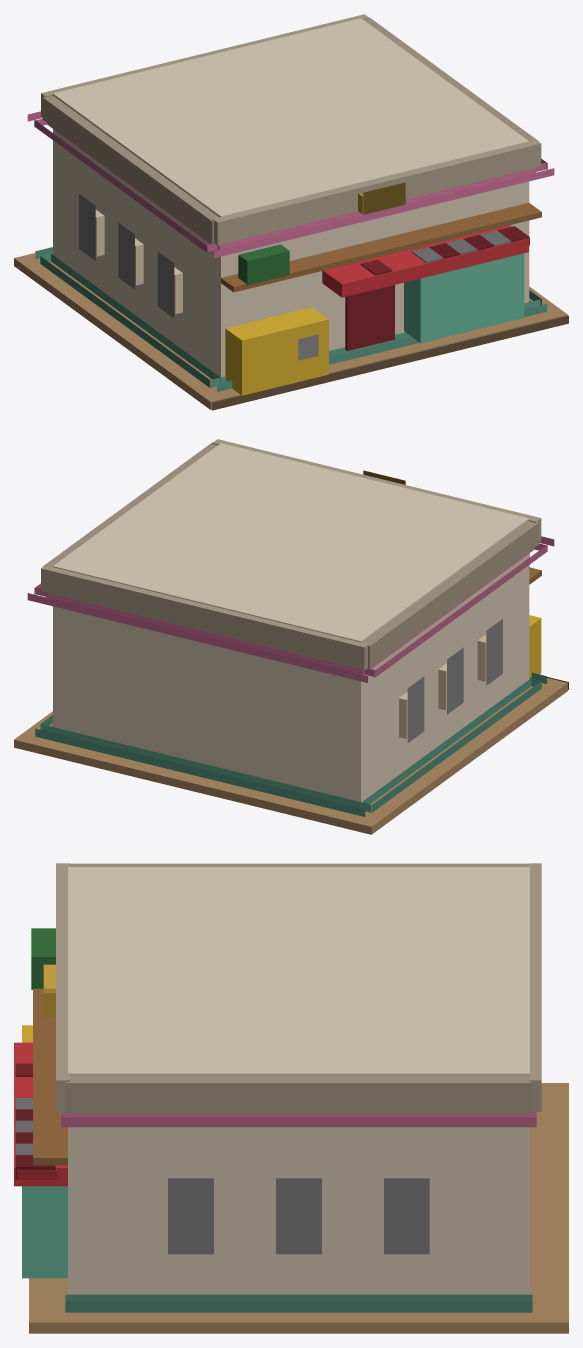
File: RoyalRatTrainSil.fbx
The picture shows the model from 3 angles, top to bottom: view 1: azimuth 30°, elevation 25°; view 2: azimuth 150°, elevation 25°; view 3: azimuth 270°, elevation 25°; orthographic projection. The views are drawn at different scales.
Visible parts, largest first — view 1: TS_S_All; view 2: TS_S_All; view 3: TS_S_All.
Boxes of the visible parts, left/top/right/bottom form: TS_S_All: left=14, top=14, right=568, bottom=410; TS_S_All: left=14, top=439, right=568, bottom=834; TS_S_All: left=14, top=863, right=568, bottom=1333.
Size of the model in its own units: 42.04 by 19.9 by 41.14.
